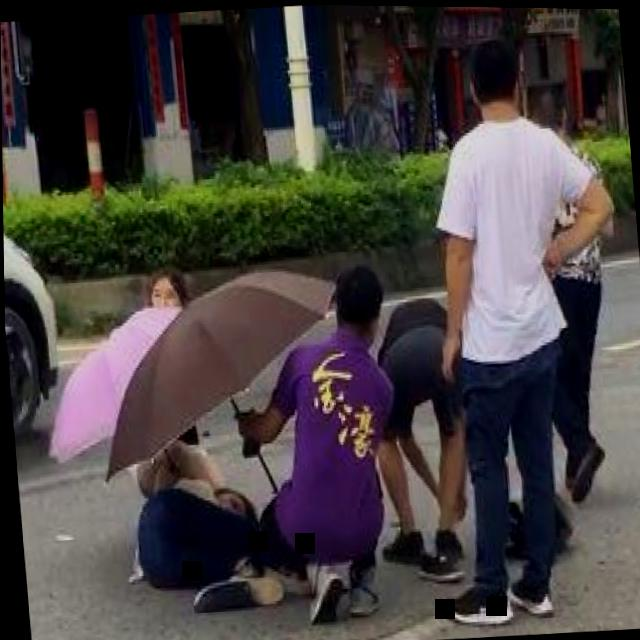Fall-Detected: (105, 413, 284, 626)
